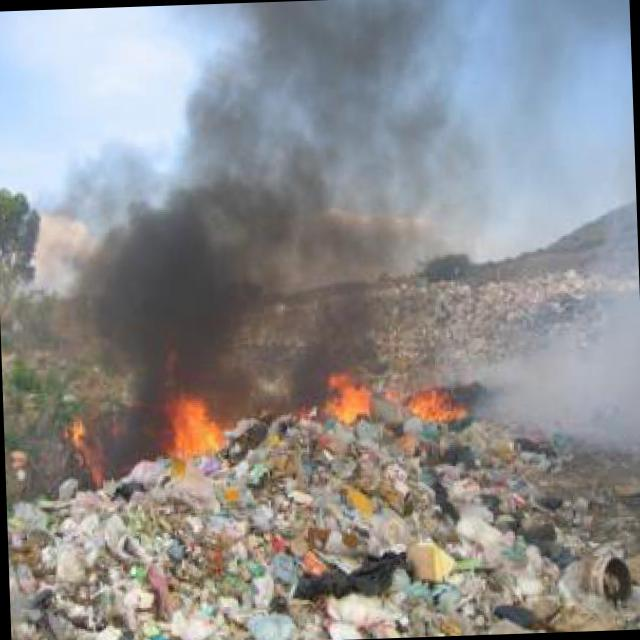fire: (167, 391, 229, 467), (66, 408, 114, 486), (404, 381, 468, 434), (323, 370, 375, 426)
smoke: (36, 1, 453, 378), (464, 163, 640, 443)
